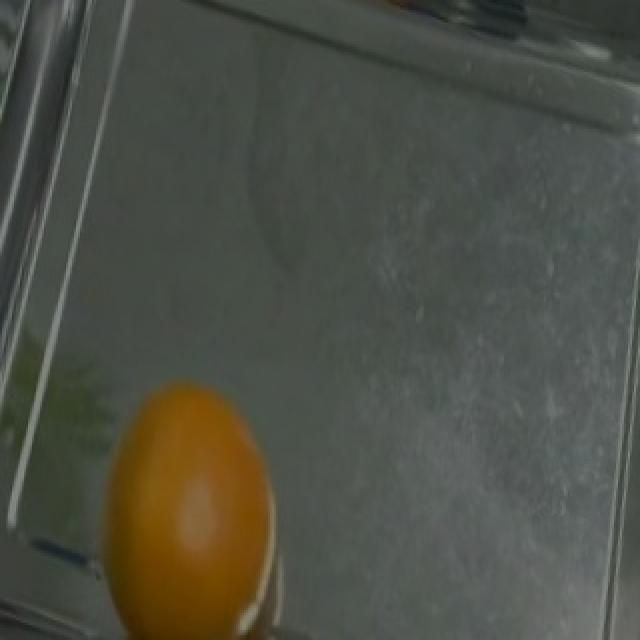Fruit: (78, 364, 296, 640)
